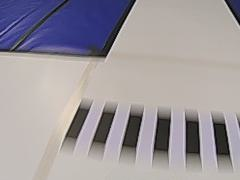CrossWalk: (73, 97, 240, 168)
